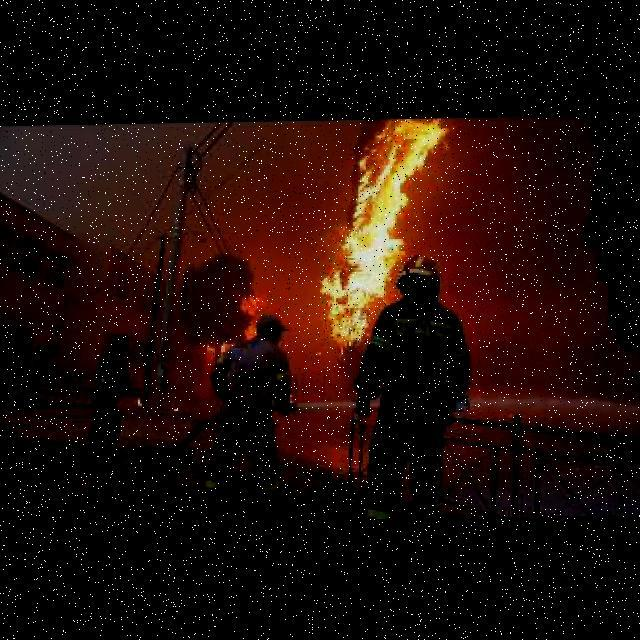Fire: (311, 123, 386, 345), (380, 119, 456, 245), (204, 283, 269, 358)
